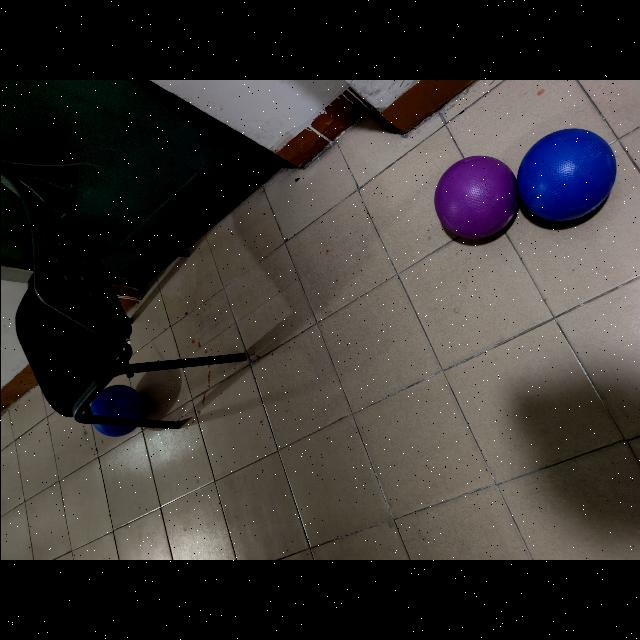B: (517, 127, 615, 223), (88, 384, 144, 438)
P: (432, 154, 520, 240)
